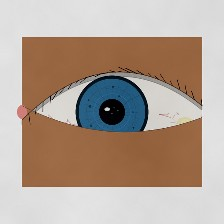pinguecula_lesion: (169, 109, 201, 134)
